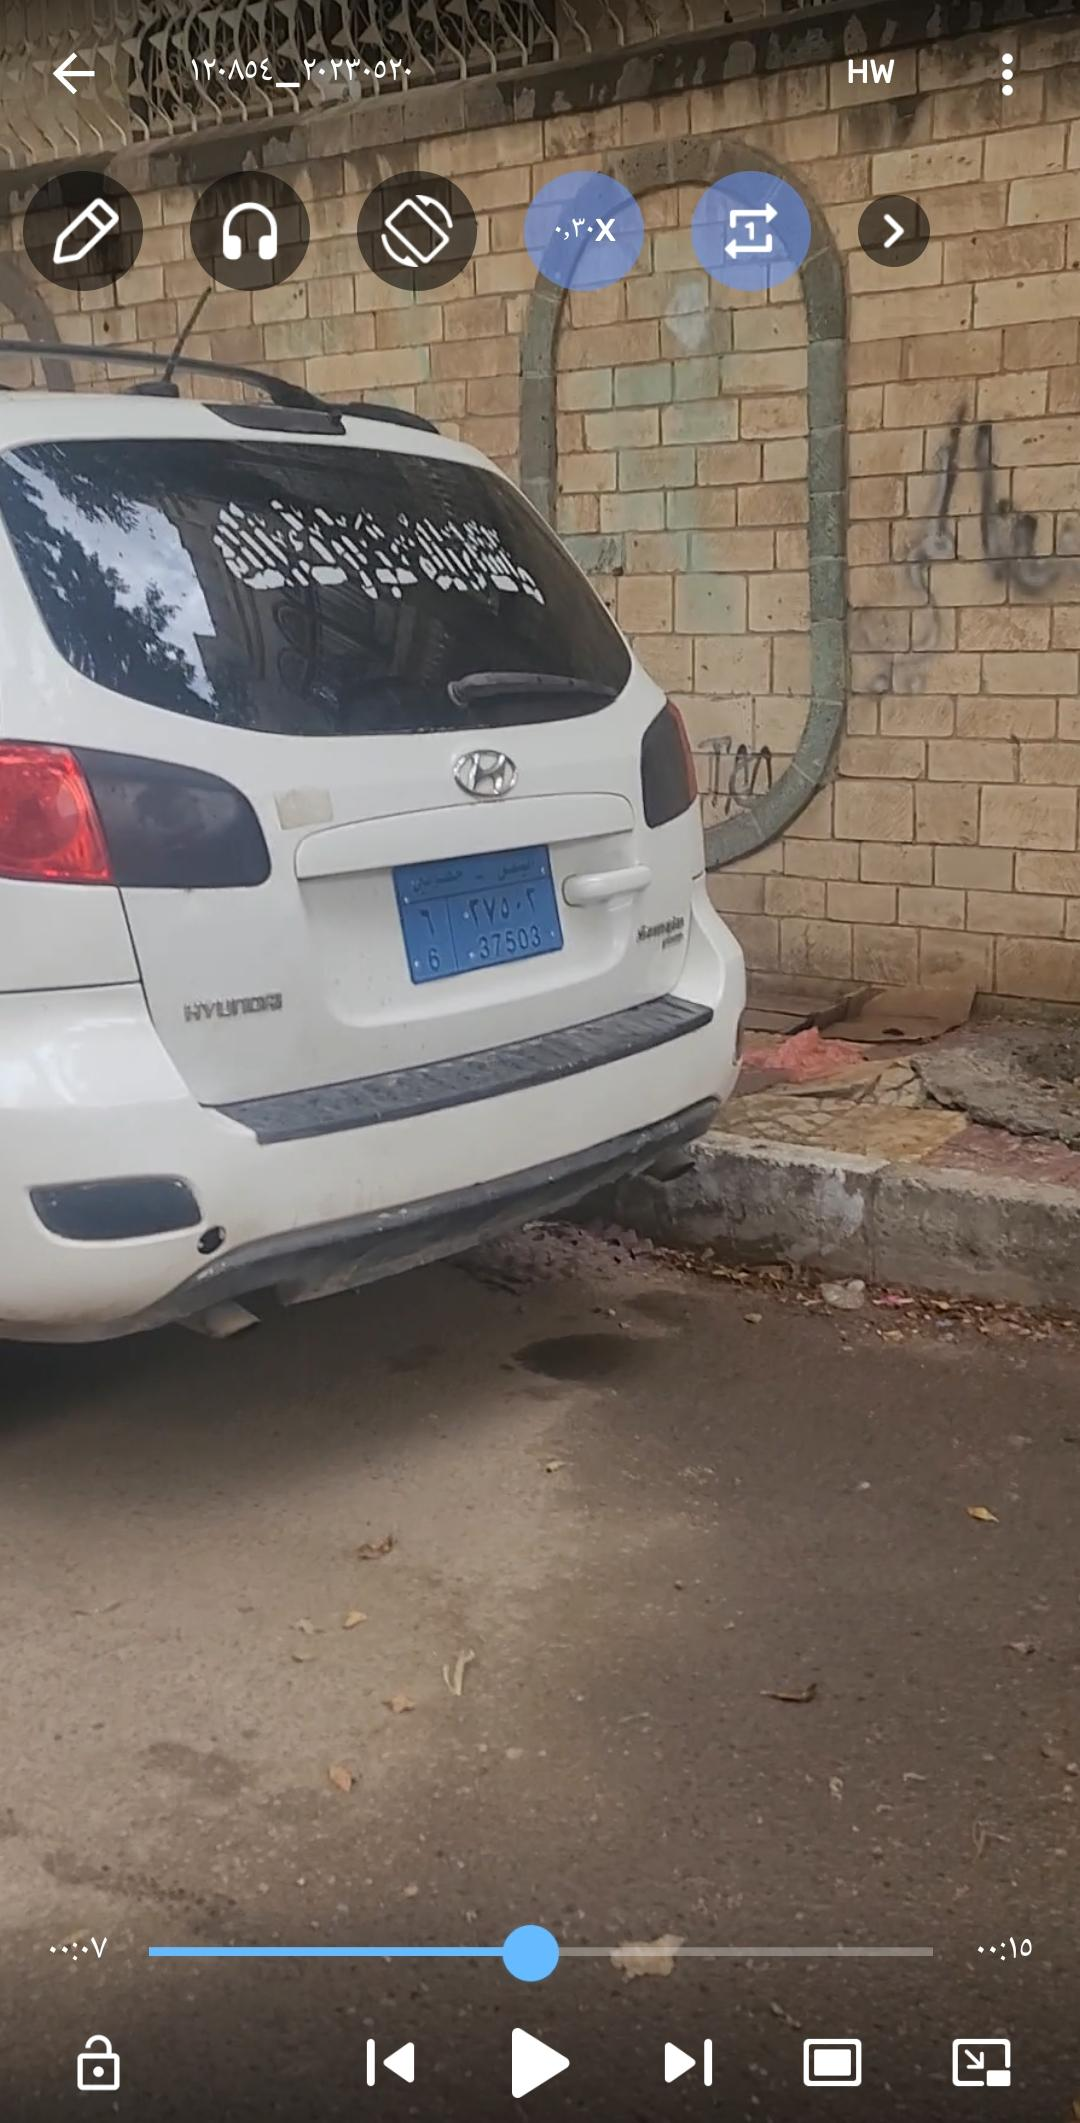privte: (394, 847, 562, 981)
